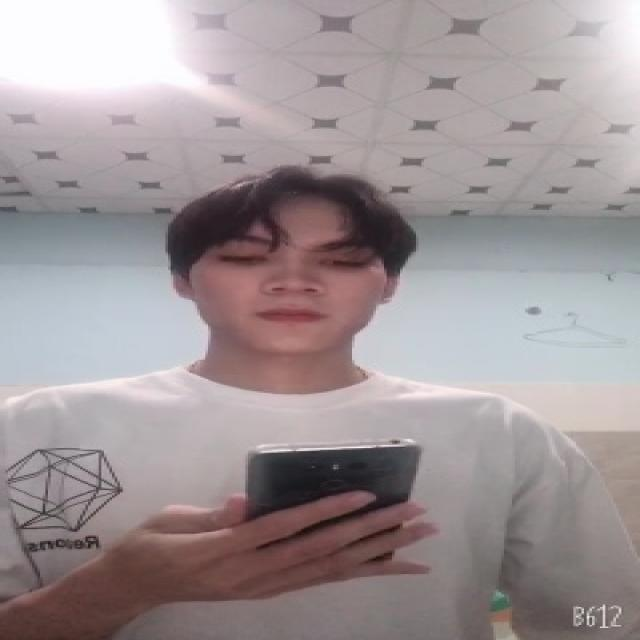Phone: (242, 434, 425, 569)
